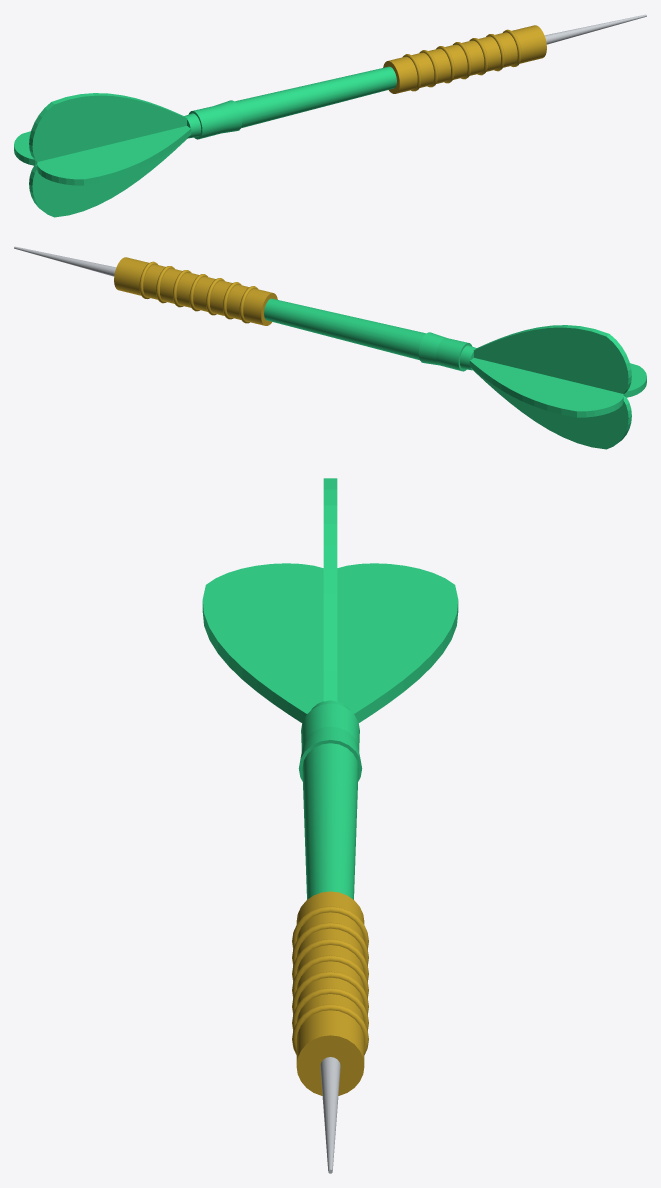
The model's file is Dart.obj.
3 renders of one model, top to bottom at view 1: azimuth 30°, elevation 25°; view 2: azimuth 150°, elevation 25°; view 3: azimuth 270°, elevation 25°, orthographic. The views are drawn at different scales.
Visible parts, largest first — view 1: green_fin2, green_shaft, green_barrel, green_fin3, green_fin0, green_collar, green_tip, green_fin1; view 2: green_fin2, green_shaft, green_barrel, green_fin1, green_fin0, green_collar, green_tip, green_fin3; view 3: green_fin1, green_fin3, green_barrel, green_shaft, green_fin2, green_tip, green_collar.
Part boxes in pixels (box(x1,y1,x2,y2)): green_fin2: box(29, 93, 187, 161); green_shaft: box(188, 66, 396, 139); green_barrel: box(383, 25, 546, 93); green_fin3: box(37, 126, 191, 185); green_fin0: box(29, 138, 186, 217); green_collar: box(184, 100, 242, 138); green_tip: box(544, 14, 646, 44); green_fin1: box(14, 131, 100, 165); green_fin2: box(473, 325, 631, 393); green_shaft: box(264, 298, 472, 371); green_barrel: box(114, 257, 277, 325); green_fin1: box(469, 358, 623, 417); green_fin0: box(474, 370, 631, 449); green_collar: box(418, 332, 476, 370); green_tip: box(14, 246, 116, 276); green_fin3: box(564, 363, 646, 397); green_fin1: box(319, 563, 458, 722); green_fin3: box(202, 563, 341, 722); green_barrel: box(296, 891, 364, 1095); green_shaft: box(301, 703, 359, 899); green_fin2: box(323, 478, 337, 701); green_tip: box(320, 1057, 340, 1173); green_collar: box(298, 700, 362, 781).
Bounding box in the file's own units: 6.28 × 1.13 × 1.13.
